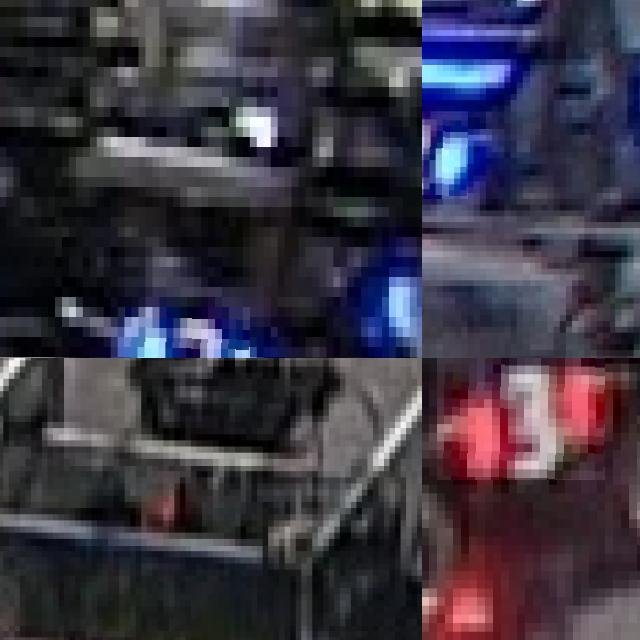B2: (124, 307, 249, 358), (422, 111, 467, 198)
R3: (437, 358, 605, 480)
